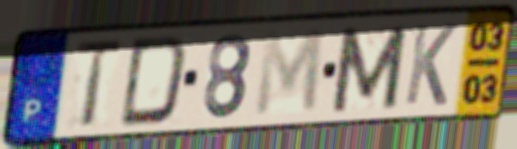8: (201, 33, 252, 121)
D: (115, 32, 192, 130)
K: (401, 21, 460, 109)
M: (327, 23, 410, 116), (252, 25, 326, 120)
T: (71, 36, 126, 132)
